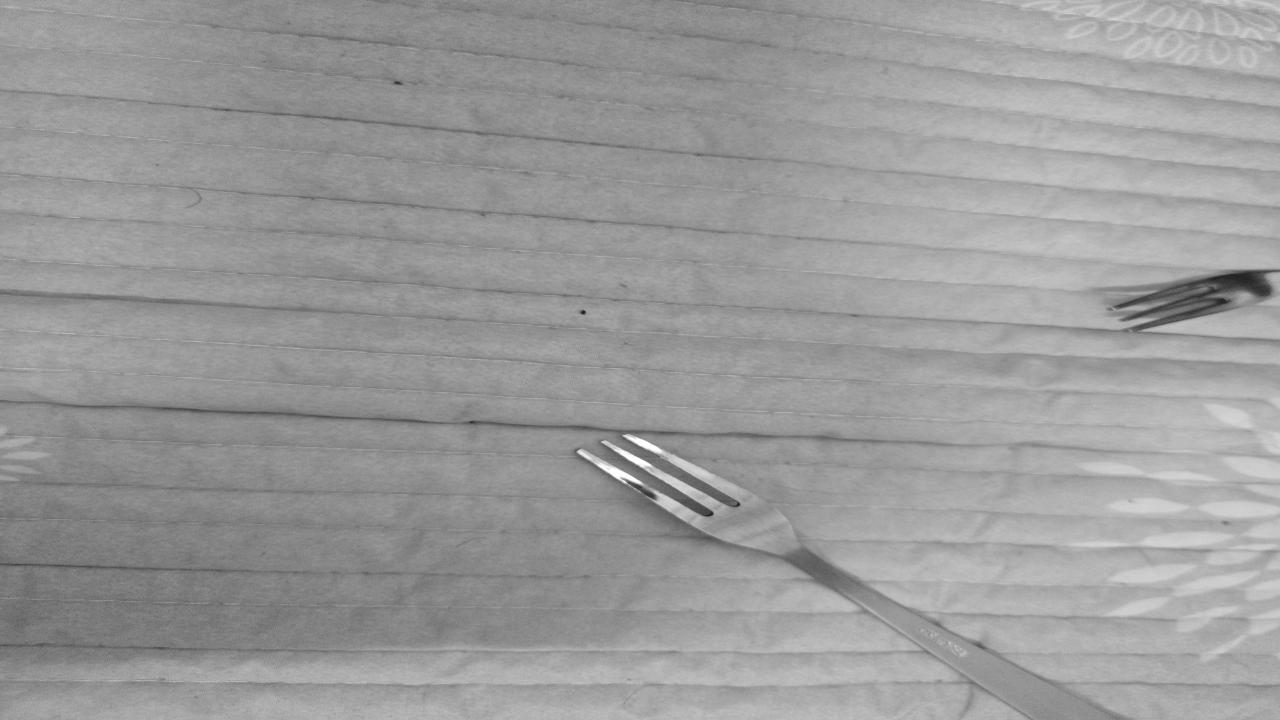fork: (577, 430, 1157, 715), (1105, 267, 1277, 333)
